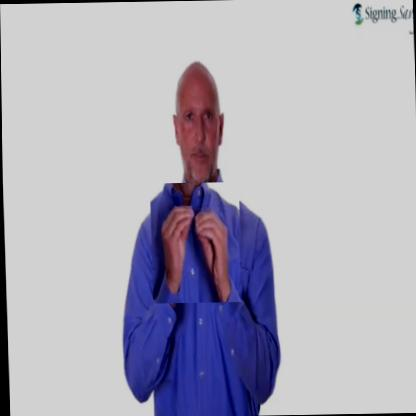Fix: (149, 182, 241, 303)
